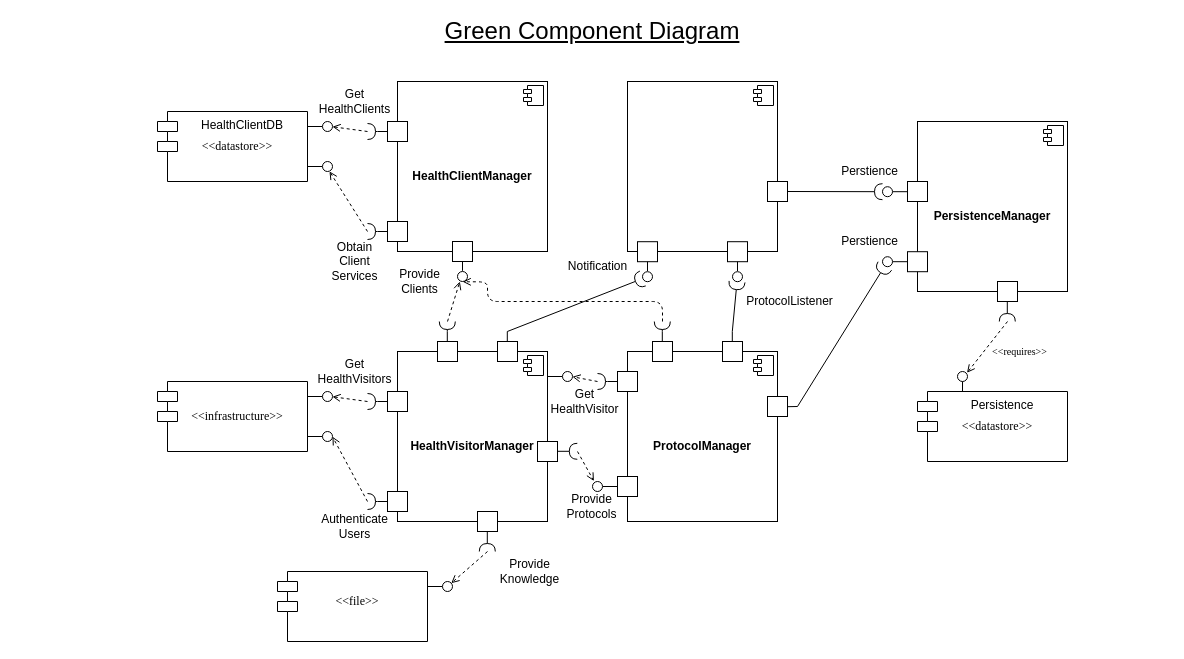
This 1184x659 diagram has some shape labels left out. Here are the shapes that lost their labels. From the top down, the box of each, then its label:
(626, 80, 778, 252): NotificationCenter
(156, 380, 308, 452): HealthVisitorIDP
(276, 570, 428, 642): FAQ
